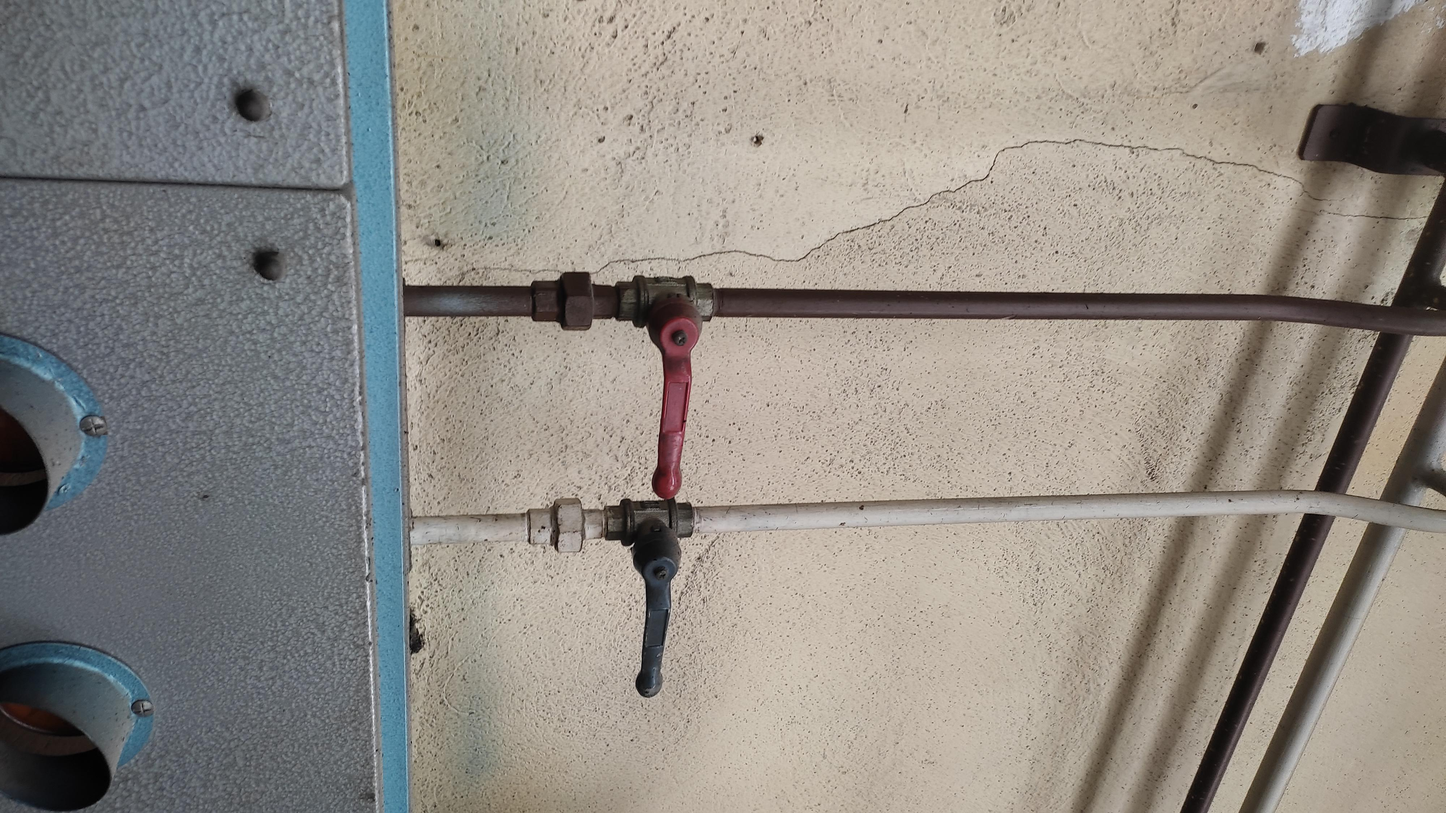closed valve: (614, 269, 715, 500), (599, 497, 697, 701)
